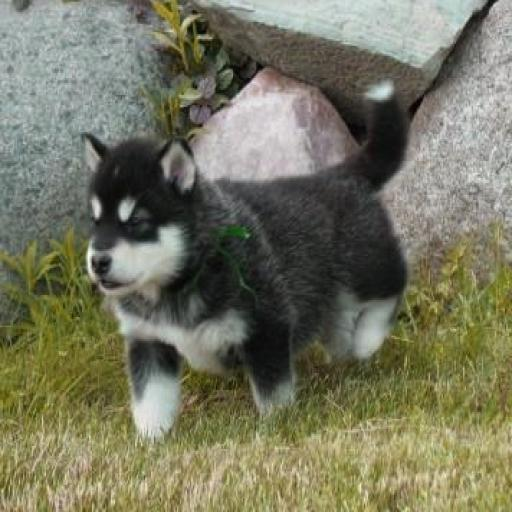dog_face: (77, 134, 206, 293)
